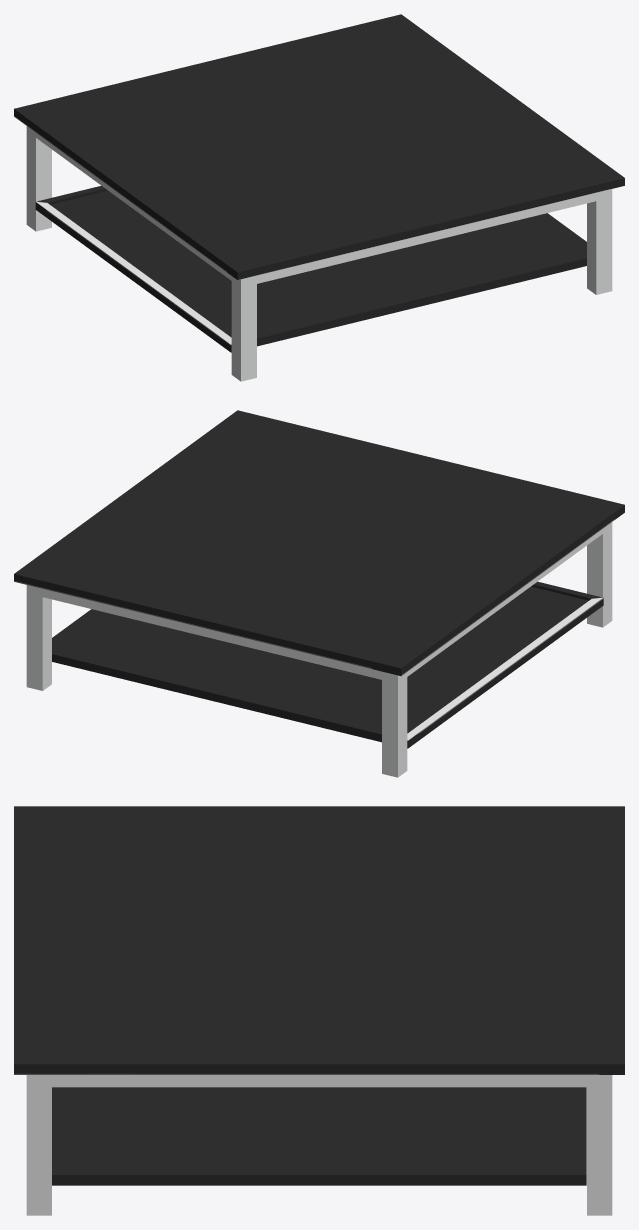
File: MesaDeCentro_MESH.fbx
The picture shows the model from 3 angles, top to bottom: view 1: azimuth 30°, elevation 25°; view 2: azimuth 150°, elevation 25°; view 3: azimuth 270°, elevation 25°; orthographic projection. The views are drawn at different scales.
Parts seen in each view (by area): view 1: Mesa_de_Centro; view 2: Mesa_de_Centro; view 3: Mesa_de_Centro.
Boxes of the visible parts, box(x1,y1,x2,y2) form: Mesa_de_Centro: box(14, 14, 624, 381); Mesa_de_Centro: box(14, 410, 624, 777); Mesa_de_Centro: box(14, 806, 624, 1215).
Size of the model in its own units: 10 by 2.83 by 10.
